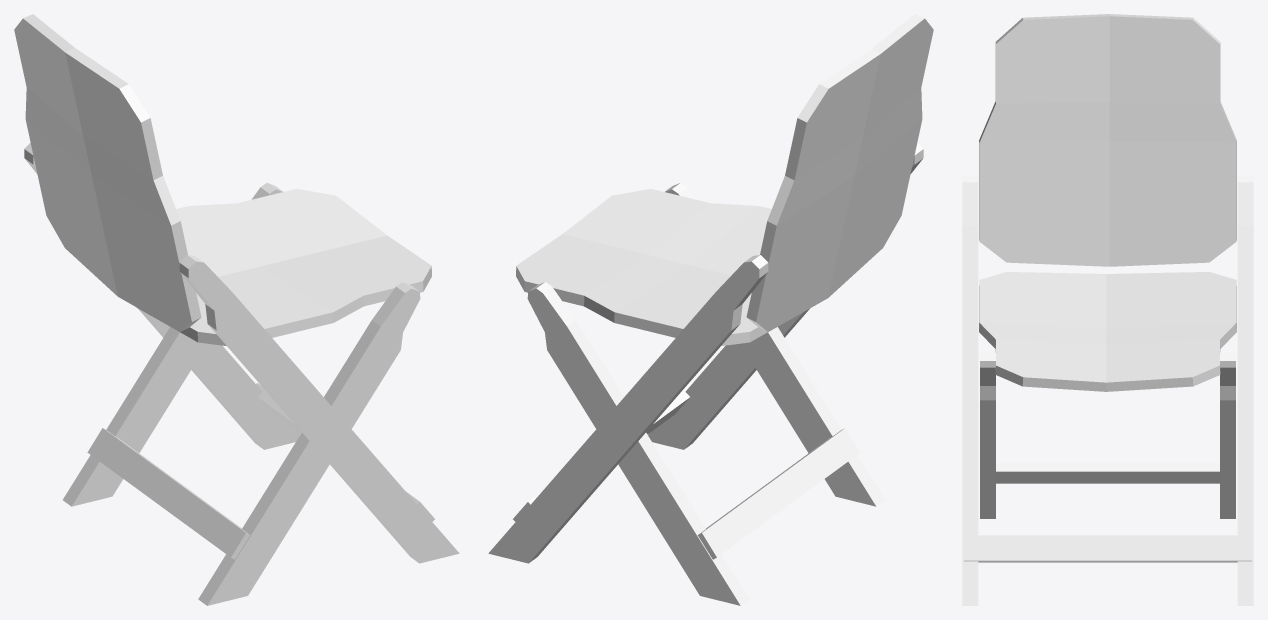
Rendered from chair.glb.
3 views of the same model, side by side, from view 1: azimuth 30°, elevation 25°; view 2: azimuth 150°, elevation 25°; view 3: azimuth 270°, elevation 25° (orthographic). The views are drawn at different scales.
Parts seen in each view (by area): view 1: chair; view 2: chair; view 3: chair.
Boxes of the visible parts, box(x1,y1,x2,y2) form: chair: box(14, 14, 459, 605); chair: box(488, 14, 933, 605); chair: box(962, 14, 1253, 605).
Size of the model in its own units: 1.27 by 1.96 by 1.13.
1 material, 1 textured.
